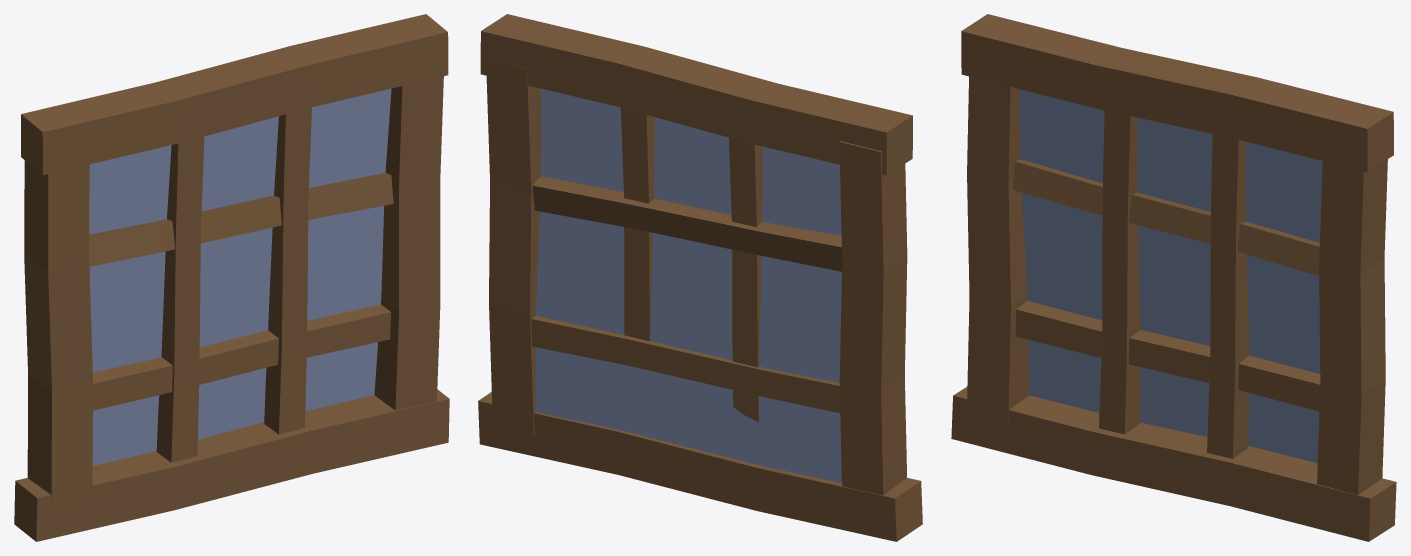
Rendered from Window_Large_2.fbx.
3 renders of one model, left to right at view 1: azimuth 30°, elevation 25°; view 2: azimuth 150°, elevation 25°; view 3: azimuth 330°, elevation 25°, orthographic.
Visible parts, largest first — view 1: Window_Large_2; view 2: Window_Large_2; view 3: Window_Large_2.
Boxes of the visible parts, left/top/right/bottom form: Window_Large_2: left=14, top=14, right=449, bottom=541; Window_Large_2: left=478, top=14, right=922, bottom=541; Window_Large_2: left=951, top=14, right=1396, bottom=541.
Bounding box in the file's own units: 113 × 107 × 12.56.
